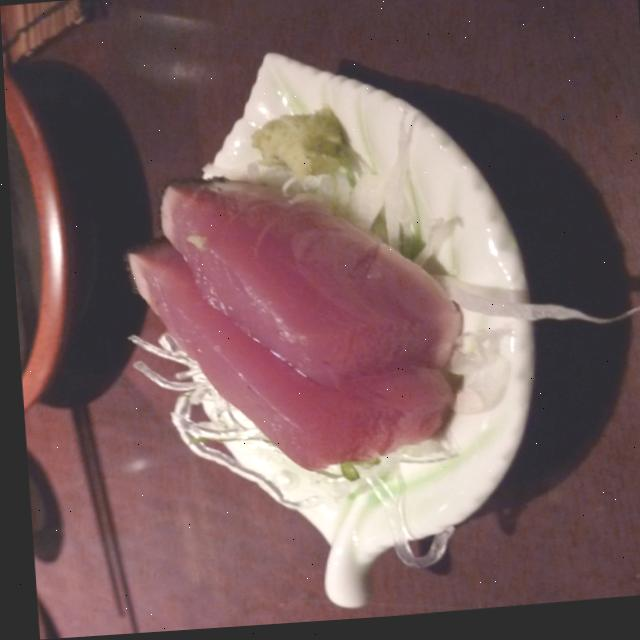熟制海鲜: (120, 139, 465, 524)
